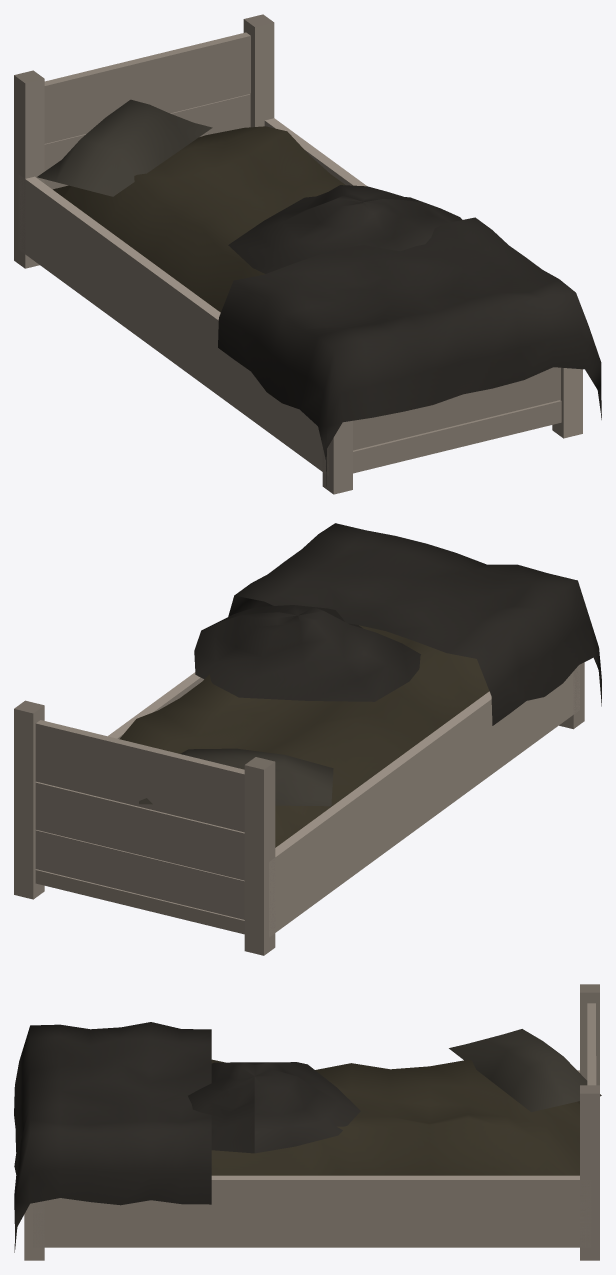
The model's file is prop_bed_slept.glb.
3 renders of one model, top to bottom at view 1: azimuth 30°, elevation 25°; view 2: azimuth 150°, elevation 25°; view 3: azimuth 270°, elevation 25°, orthographic. The views are drawn at different scales.
Visible parts, largest first — view 1: BedSleptSoft, BedSlept; view 2: BedSleptSoft, BedSlept; view 3: BedSleptSoft, BedSlept.
Part boxes in pixels (left/top/right/bottom): BedSleptSoft: left=37, top=99, right=601, bottom=486; BedSlept: left=14, top=14, right=582, bottom=494; BedSleptSoft: left=119, top=523, right=601, bottom=847; BedSlept: left=14, top=662, right=584, bottom=955; BedSleptSoft: left=14, top=1022, right=601, bottom=1252; BedSlept: left=24, top=984, right=599, bottom=1260.
Size of the model in its own units: 1.03 by 0.64 by 2.04.
